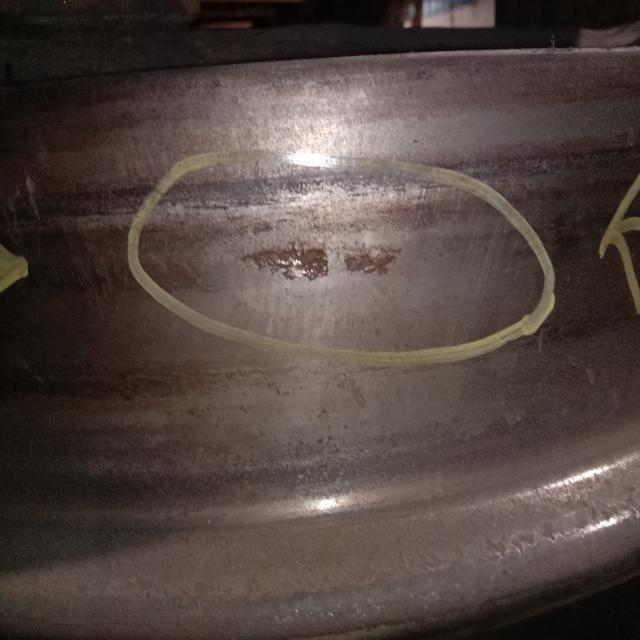Peeling: (245, 242, 407, 283)
